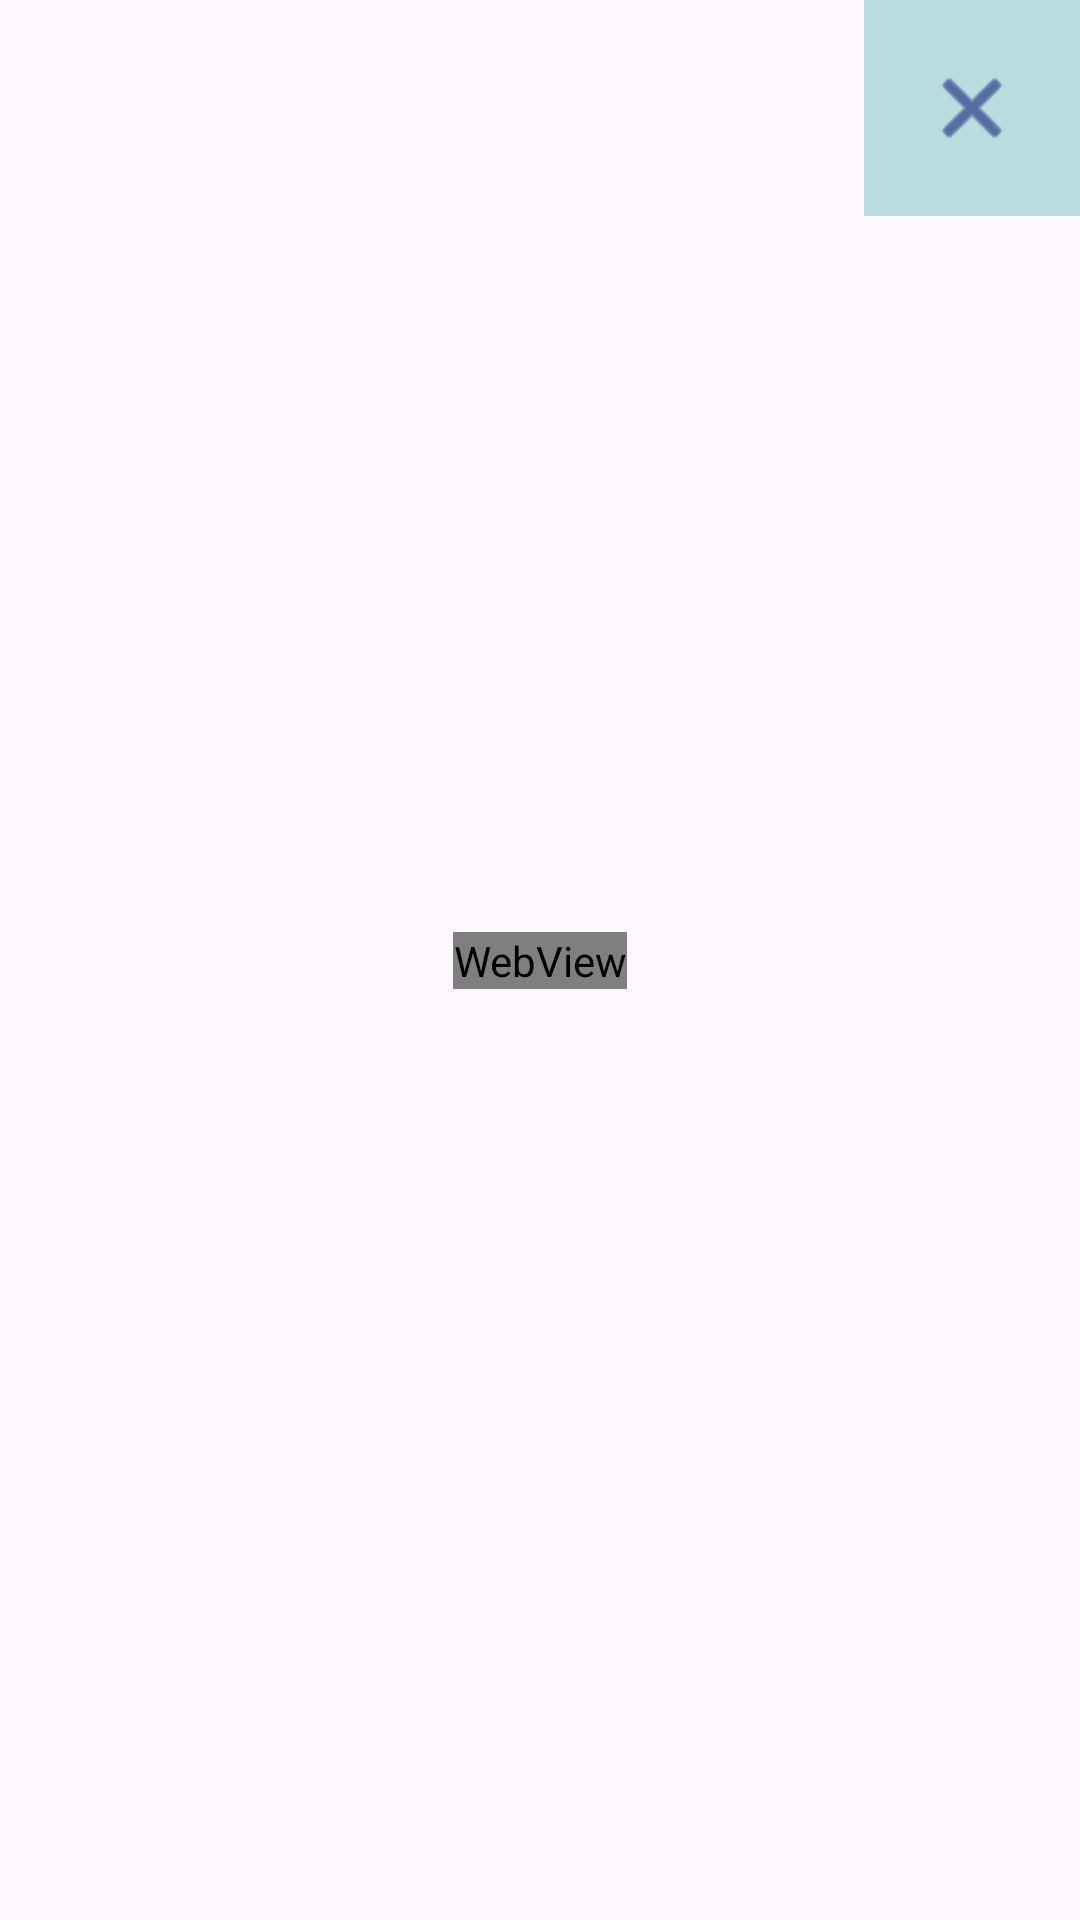

Locate icon controls on the screen. Image size 1080w x 1920h, boxes as (x1, y1, x2, y2).
close clear cancel: (864, 0, 1080, 216)
